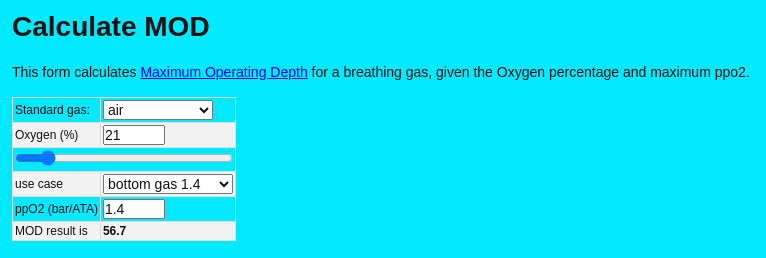
Test: ModView › recalculates when oxygen percent changes
Replace the text in the number field named "Oxygen percent" with "32". click: {"x": 134, "y": 134}
box: [103,124,165,144]
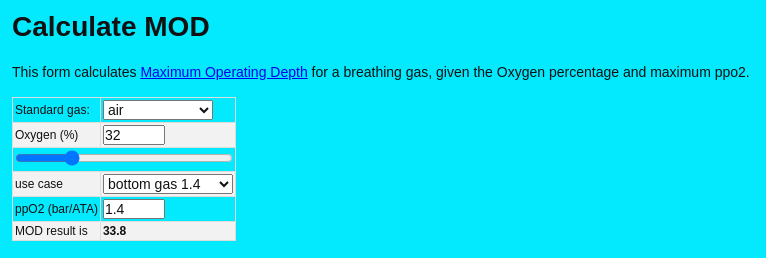
Result: the text "33.8" is shown at [103,224,126,238]
